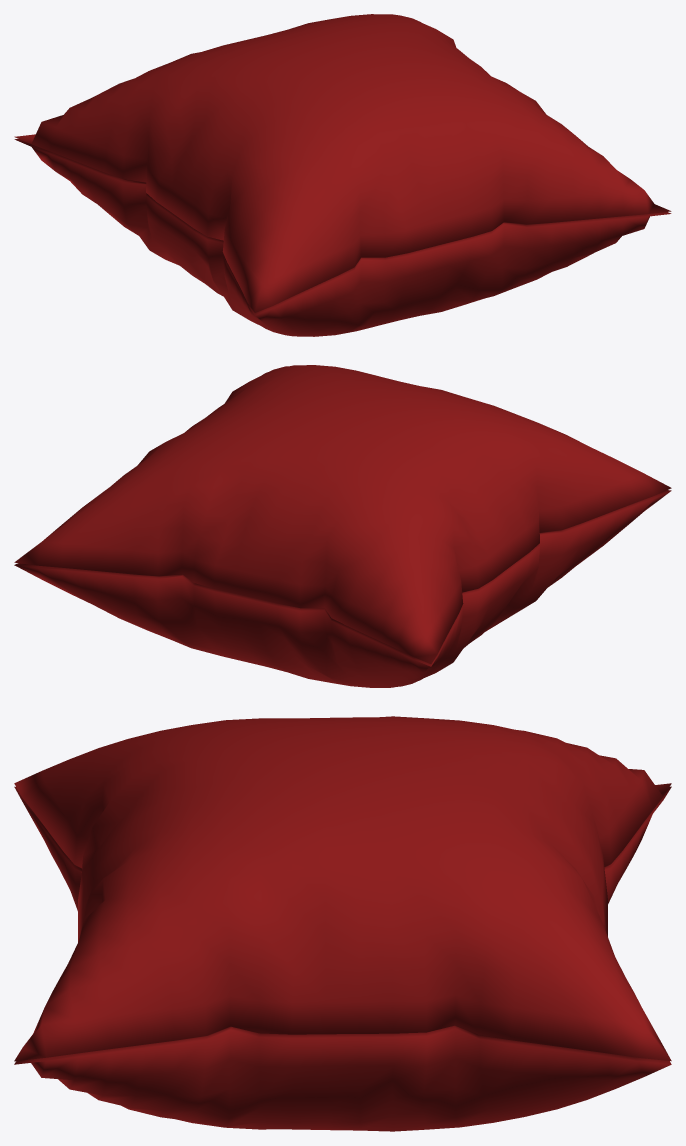
The model's file is pillow.glb.
The picture shows the model from 3 angles, top to bottom: view 1: azimuth 30°, elevation 25°; view 2: azimuth 150°, elevation 25°; view 3: azimuth 270°, elevation 25°; orthographic projection. The views are drawn at different scales.
Parts seen in each view (by area): view 1: Plane; view 2: Plane; view 3: Plane.
Part boxes in pixels (x1=…): Plane: x1=14, y1=14, x2=671, y2=336; Plane: x1=14, y1=365, x2=671, y2=687; Plane: x1=14, y1=716, x2=671, y2=1131.
Size of the model in its own units: 1.86 by 1.02 by 1.86.
1 material, 1 textured.
